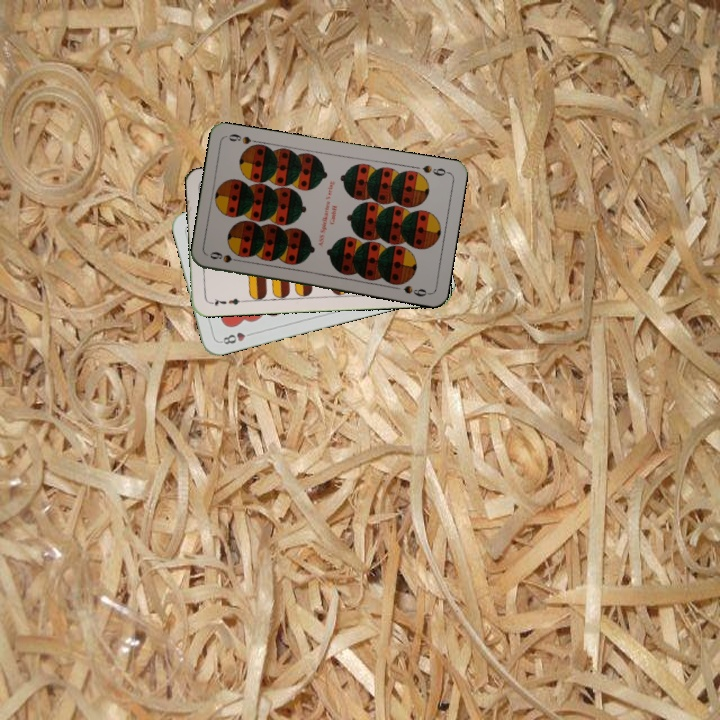E7: (206, 294, 246, 309)
H8: (216, 328, 256, 347)
S9: (205, 247, 246, 265), (418, 161, 451, 178)
